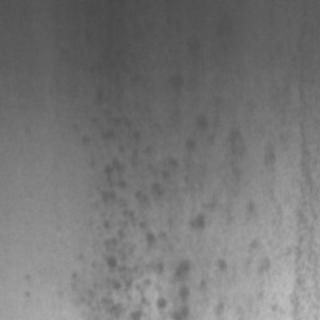pitted_surface: (76, 87, 270, 317)
